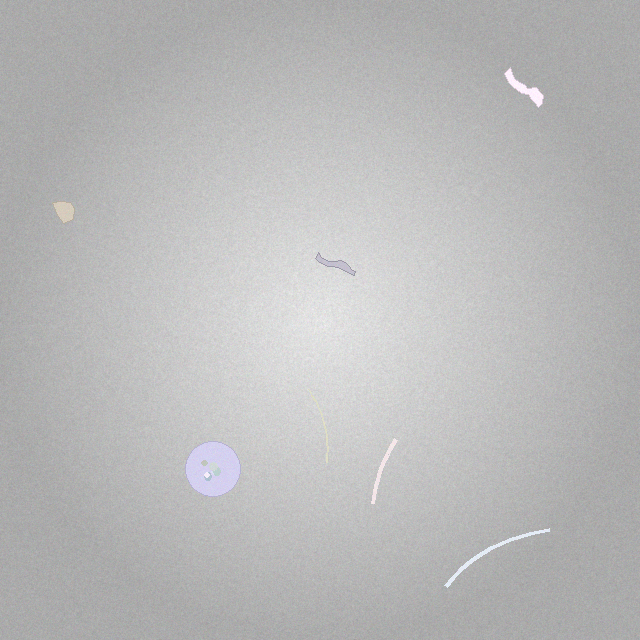fiber: (441, 527, 554, 590), (368, 435, 400, 507), (306, 387, 330, 465)
film: (504, 67, 543, 108), (316, 253, 356, 275)
foam: (186, 441, 241, 496)
fragment: (53, 201, 74, 223)
